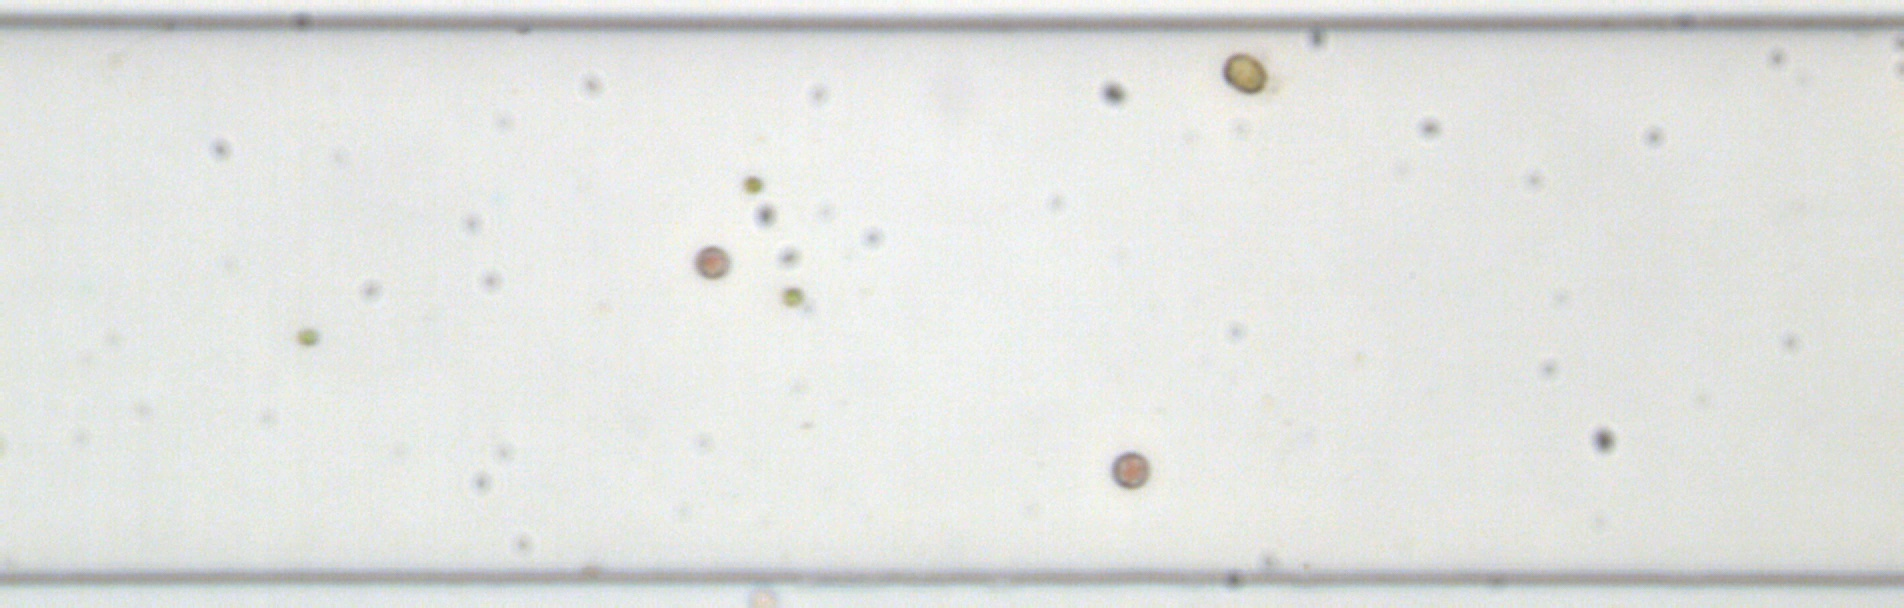Chlorella: (294, 324, 322, 347), (780, 286, 805, 307), (741, 175, 763, 194)
Effrenium: (1219, 51, 1268, 95)
Porphyridium: (691, 242, 731, 285), (1109, 449, 1150, 490)
